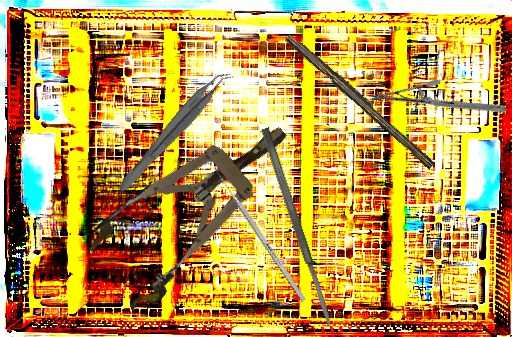Needle Holder: (368, 46, 508, 160)
Pusher: (213, 167, 307, 303)
Scalpel Handle: (282, 31, 440, 170)
Spatula Surgical: (259, 126, 335, 327)
Speculum: (76, 95, 316, 318)
Tissue Forceps: (115, 63, 235, 200)
